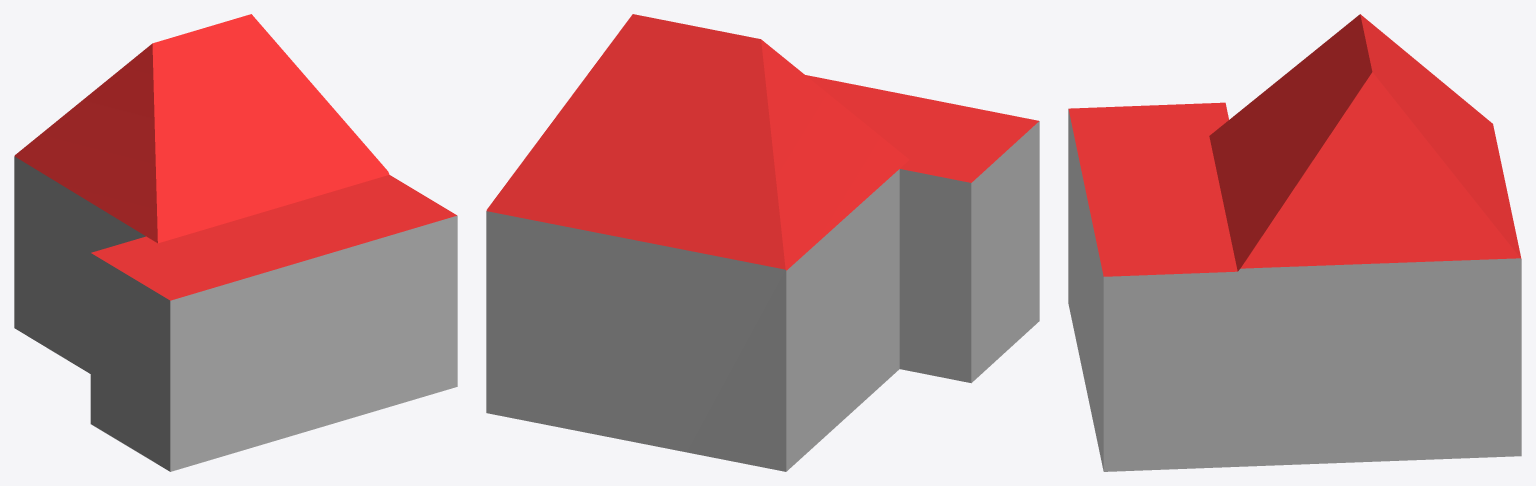
The model's file is DEBY_LOD2_4781476.dae.
3 views of the same model, side by side, from view 1: azimuth 30°, elevation 25°; view 2: azimuth 150°, elevation 25°; view 3: azimuth 270°, elevation 25° (orthographic). The views are drawn at different scales.
Size of the model in its own units: 12.35 by 13.57 by 11.6.
